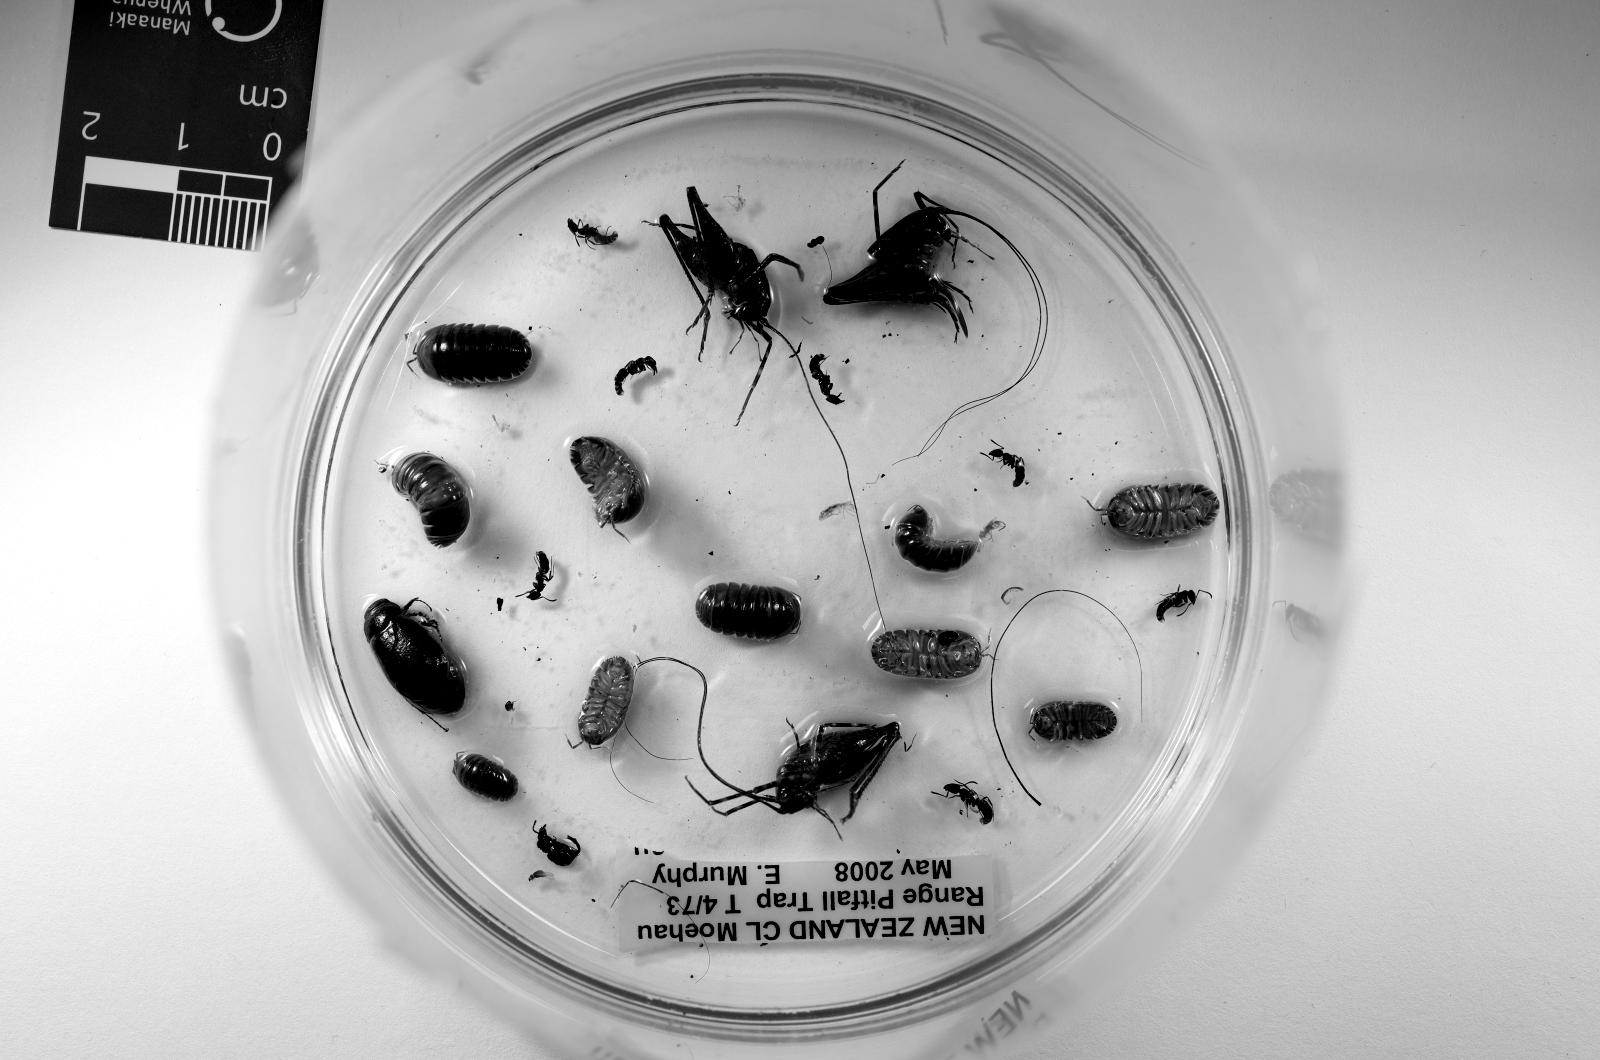coleoptera: (366, 599, 466, 714), (531, 823, 581, 866)
collembola: (819, 500, 853, 522), (978, 519, 1006, 543)
formicidae: (931, 783, 994, 826), (984, 444, 1025, 488), (809, 354, 844, 404), (516, 553, 553, 599), (612, 357, 656, 394), (1156, 590, 1206, 621), (569, 220, 619, 245)
isopoda: (412, 323, 531, 385), (391, 453, 469, 547), (1097, 484, 1219, 540), (569, 438, 644, 528), (697, 584, 800, 640), (872, 630, 984, 680), (894, 506, 978, 571), (578, 655, 634, 745), (453, 752, 519, 801), (1031, 702, 1116, 739)
orthoptera: (641, 655, 900, 832), (822, 189, 1047, 382), (653, 186, 803, 394)
